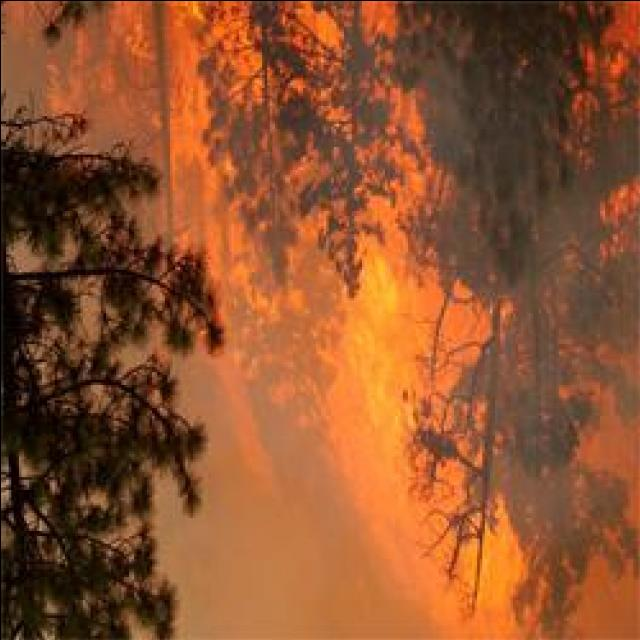fire: (186, 4, 401, 312), (328, 276, 516, 616), (8, 0, 190, 123), (573, 2, 640, 230), (411, 133, 455, 224)
smoke: (139, 352, 280, 600), (546, 346, 638, 594), (2, 202, 114, 332), (481, 108, 541, 196), (418, 33, 469, 87)
